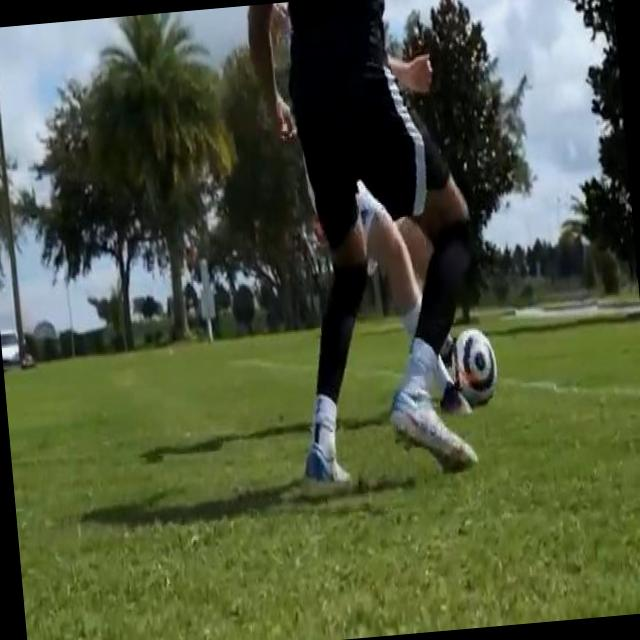Soccer Ball: (444, 321, 500, 412)
